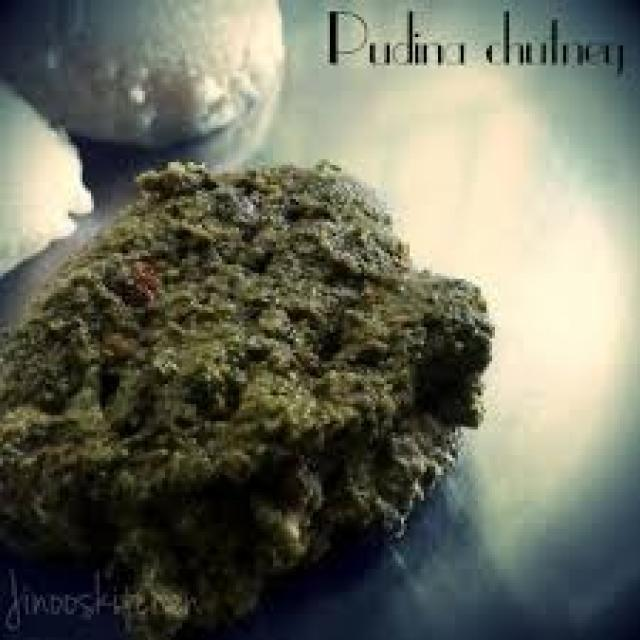idly: (0, 0, 282, 145), (0, 80, 91, 276)
puthina chutney: (0, 136, 480, 640)
